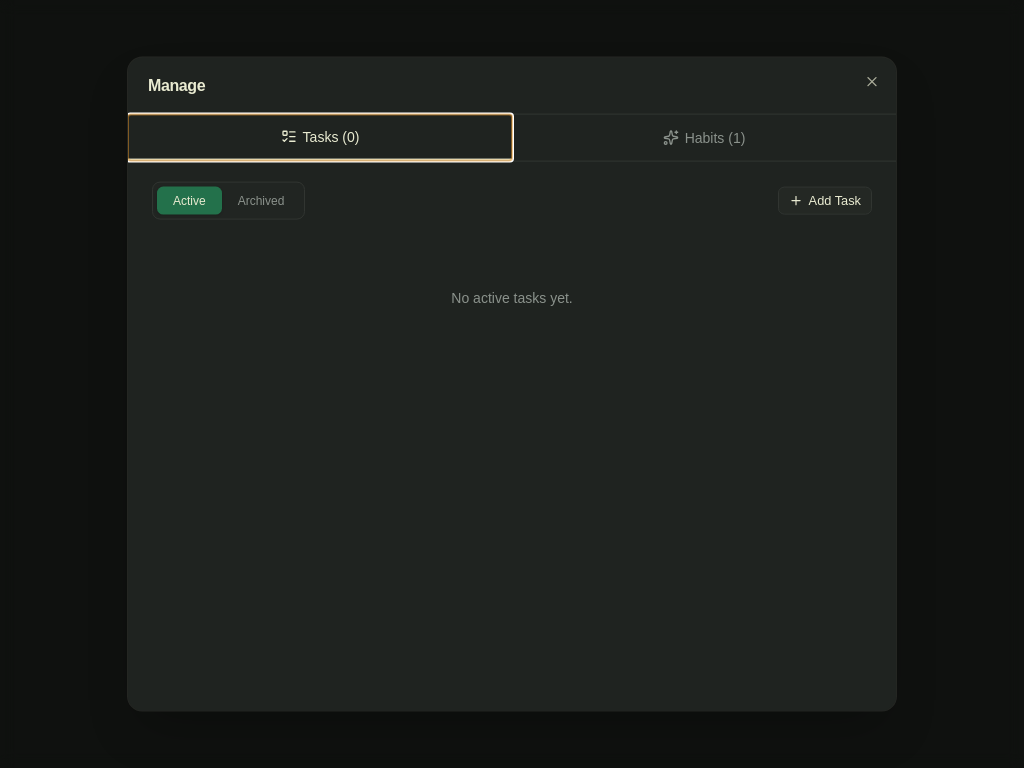
Test: ManageModal › filters active and archived habits
# Switch to habits tab
Click the button "Habits (1)": (704, 138) top-left (512, 115), bottom-right (896, 161)
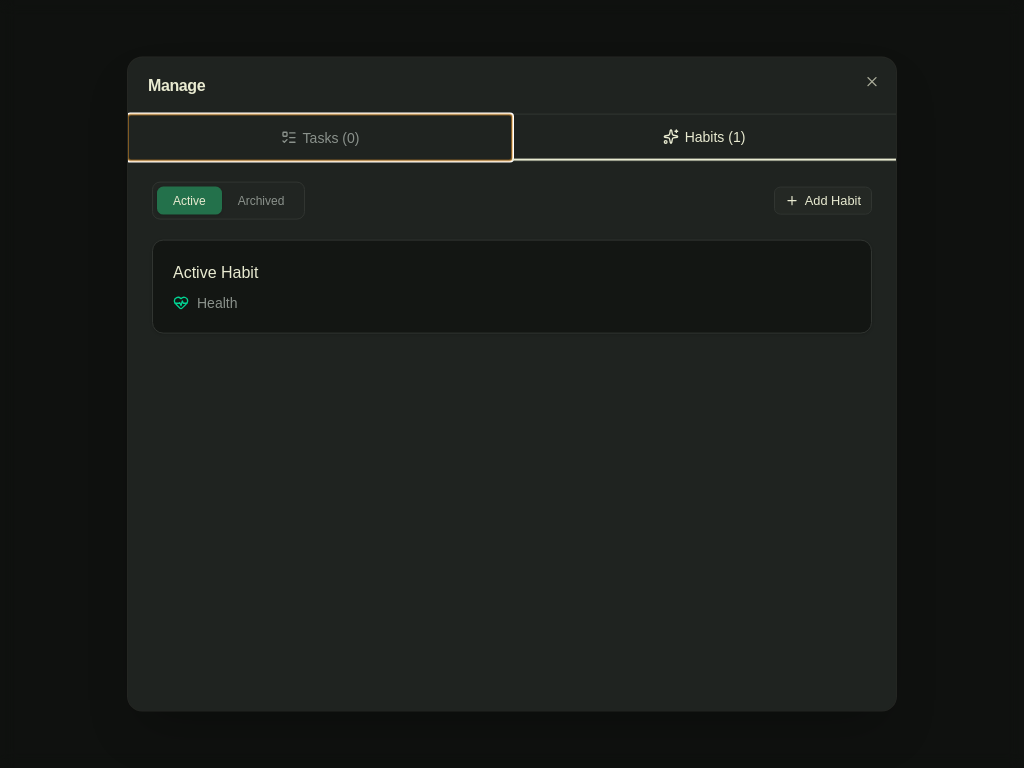
Expected: the text "Archived Habit" is not shown
Result: the text "Active Habit" is shown at top-left (173, 264), bottom-right (258, 281)
# Switch to archived habits
Click the button "Archived": (261, 201) top-left (222, 187), bottom-right (300, 215)
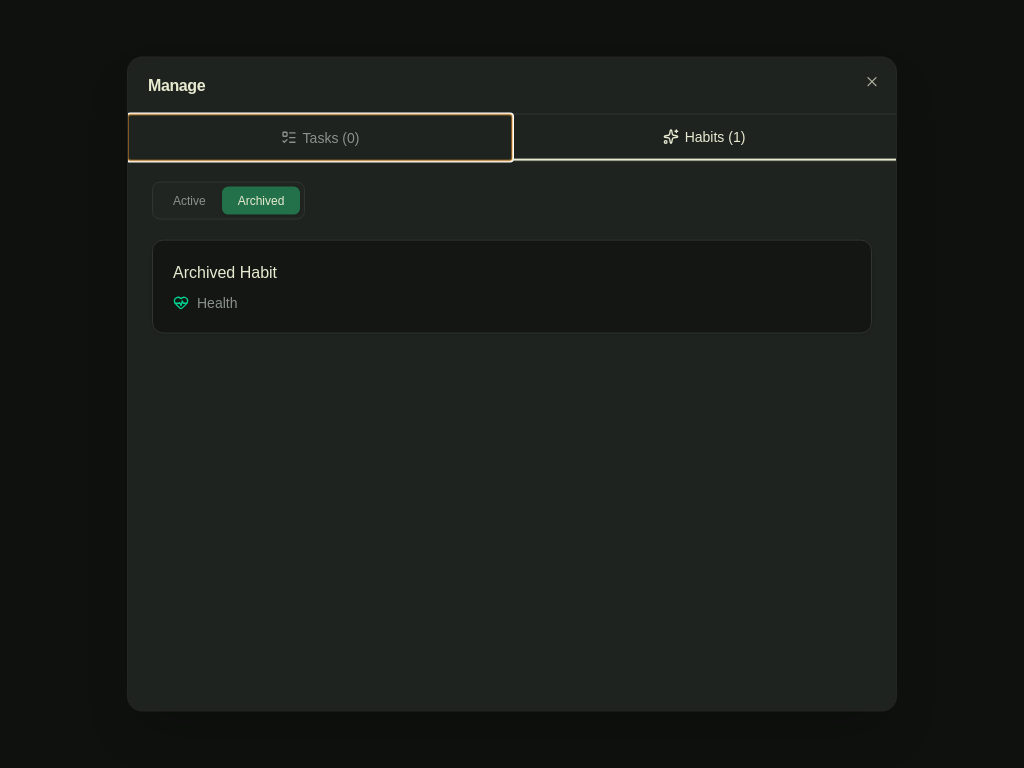
Result: the text "Archived Habit" is shown at top-left (173, 264), bottom-right (277, 281)
Result: the text "Active Habit" is gone
